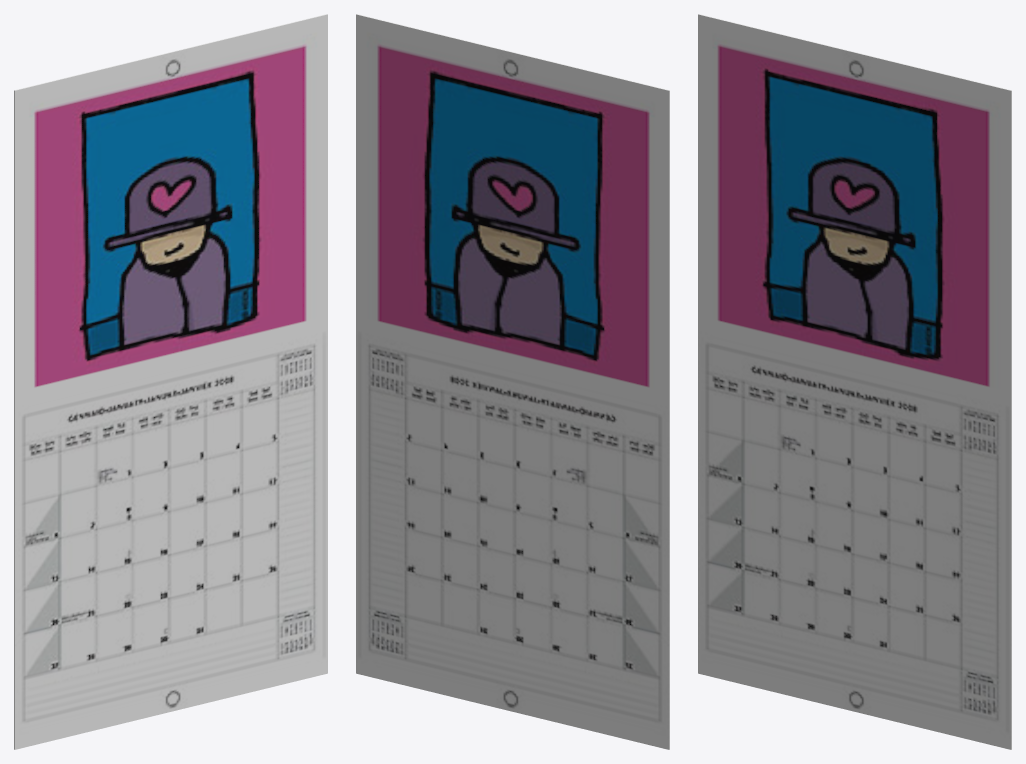
The picture shows the model from 3 angles, left to right: view 1: azimuth 30°, elevation 25°; view 2: azimuth 150°, elevation 25°; view 3: azimuth 330°, elevation 25°; orthographic projection.
Visible parts, largest first — view 1: SketchUp; view 2: SketchUp; view 3: SketchUp.
Boxes of the visible parts, x1,y1,x2,y2 form: SketchUp: (14,14,327,749); SketchUp: (356,14,669,749); SketchUp: (698,14,1011,749).
Bounding box in the file's own units: 21.66 × 0.0787 × 43.58.
